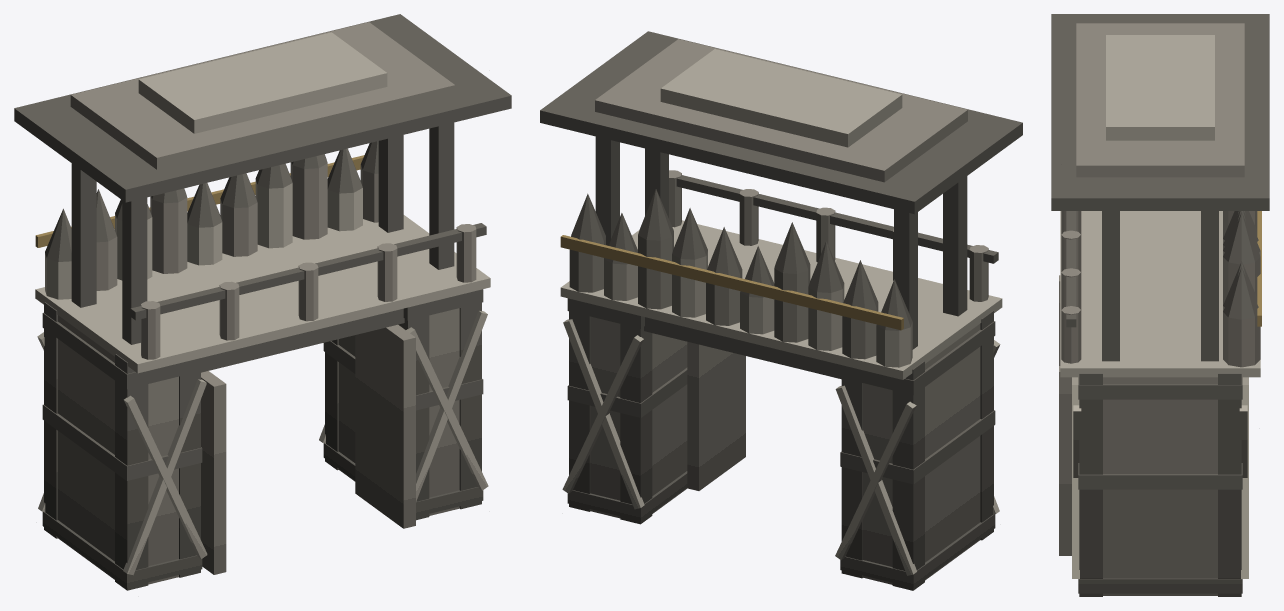
The model's file is perimeter_gate_stone_open.glb.
The picture shows the model from 3 angles, left to right: view 1: azimuth 30°, elevation 25°; view 2: azimuth 150°, elevation 25°; view 3: azimuth 270°, elevation 25°; orthographic projection. The views are drawn at different scales.
Size of the model in its own units: 4.4 by 4.8 by 2.2.
Materials: 1 (1 with a texture image).
